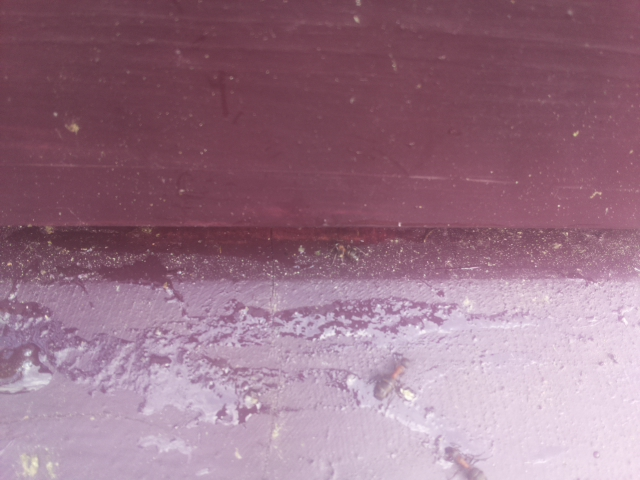ant: (367, 349, 422, 410), (440, 438, 481, 480), (157, 278, 184, 304)
